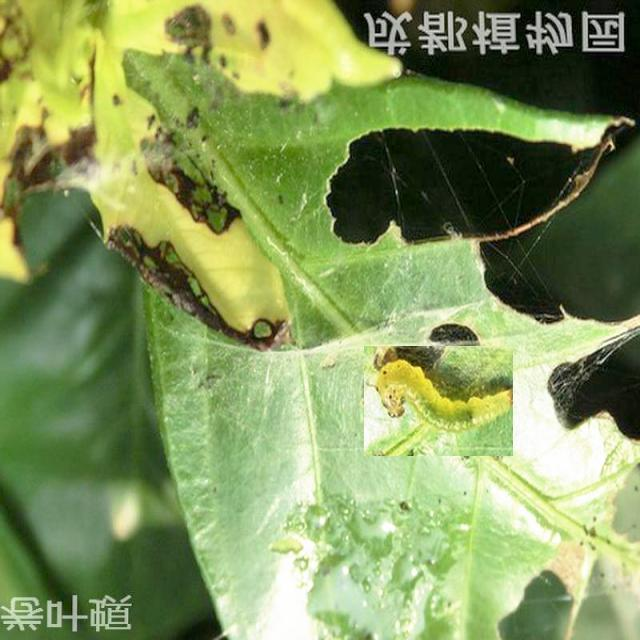leaf-folder: (364, 346, 513, 456)
